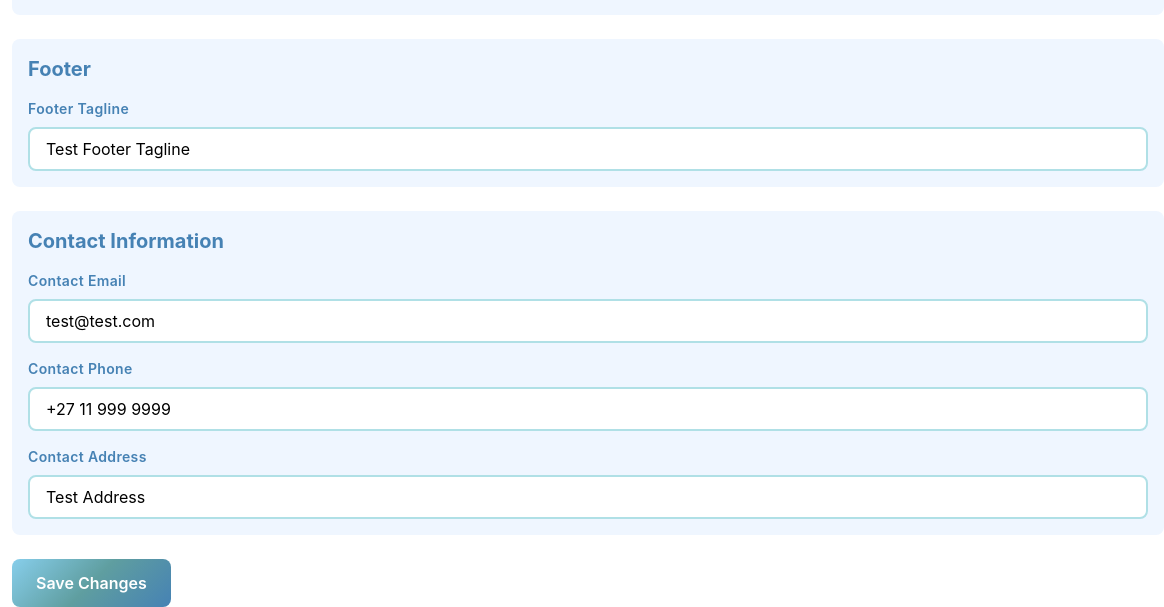
Test case: EditSchoolInfo Component Tests › should display error message on update failure
(page scrolled)
Click the button "Save Changes".
click(91, 583)  # box [12,559,171,606]
(page scrolled)
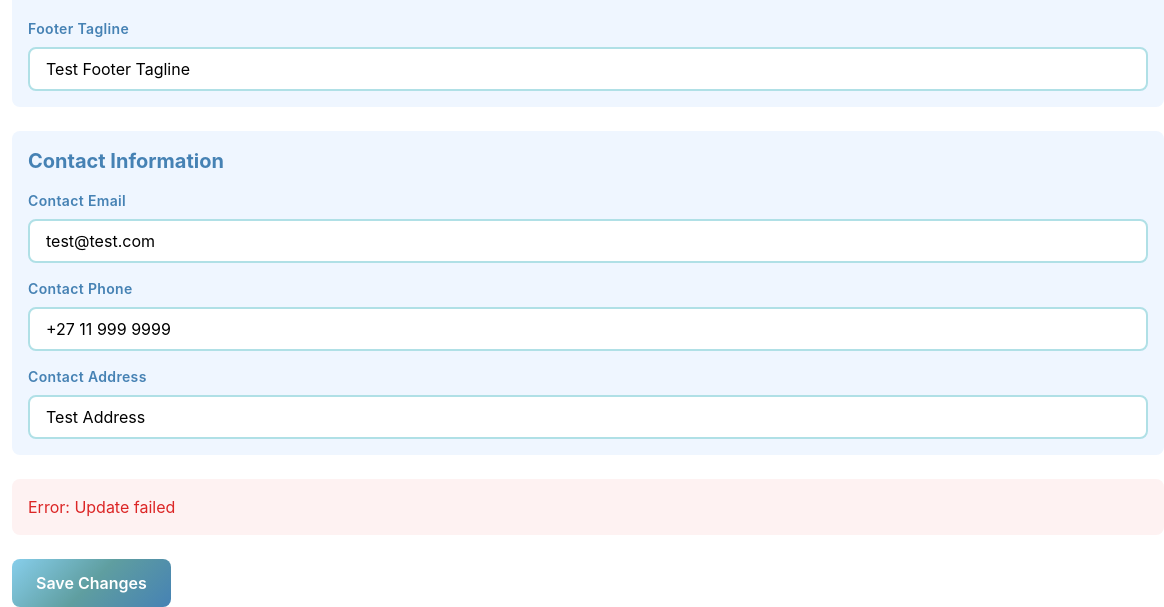
Result: the text "Error: Update failed" is shown at [12,479,1163,535]
